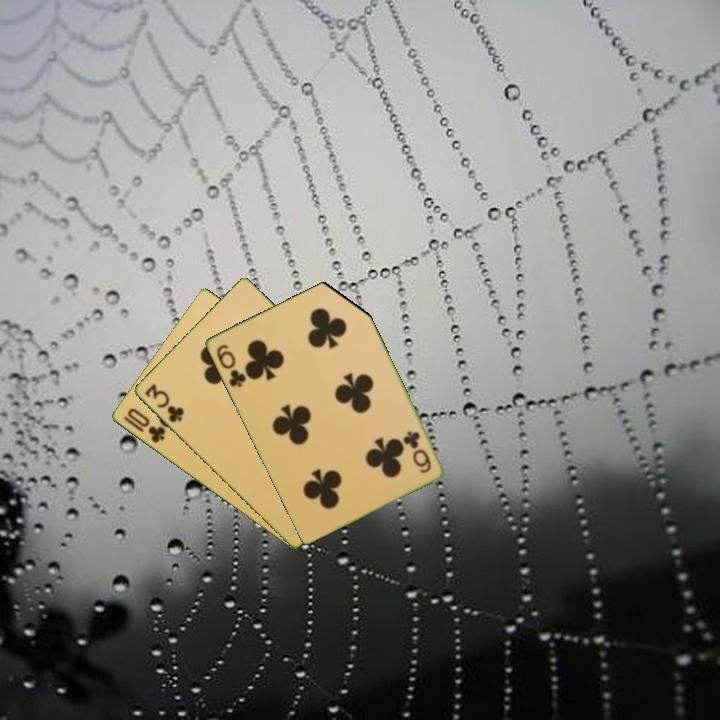10c: (119, 404, 168, 446)
3c: (141, 380, 186, 426)
6c: (212, 341, 249, 390), (400, 427, 434, 476)
